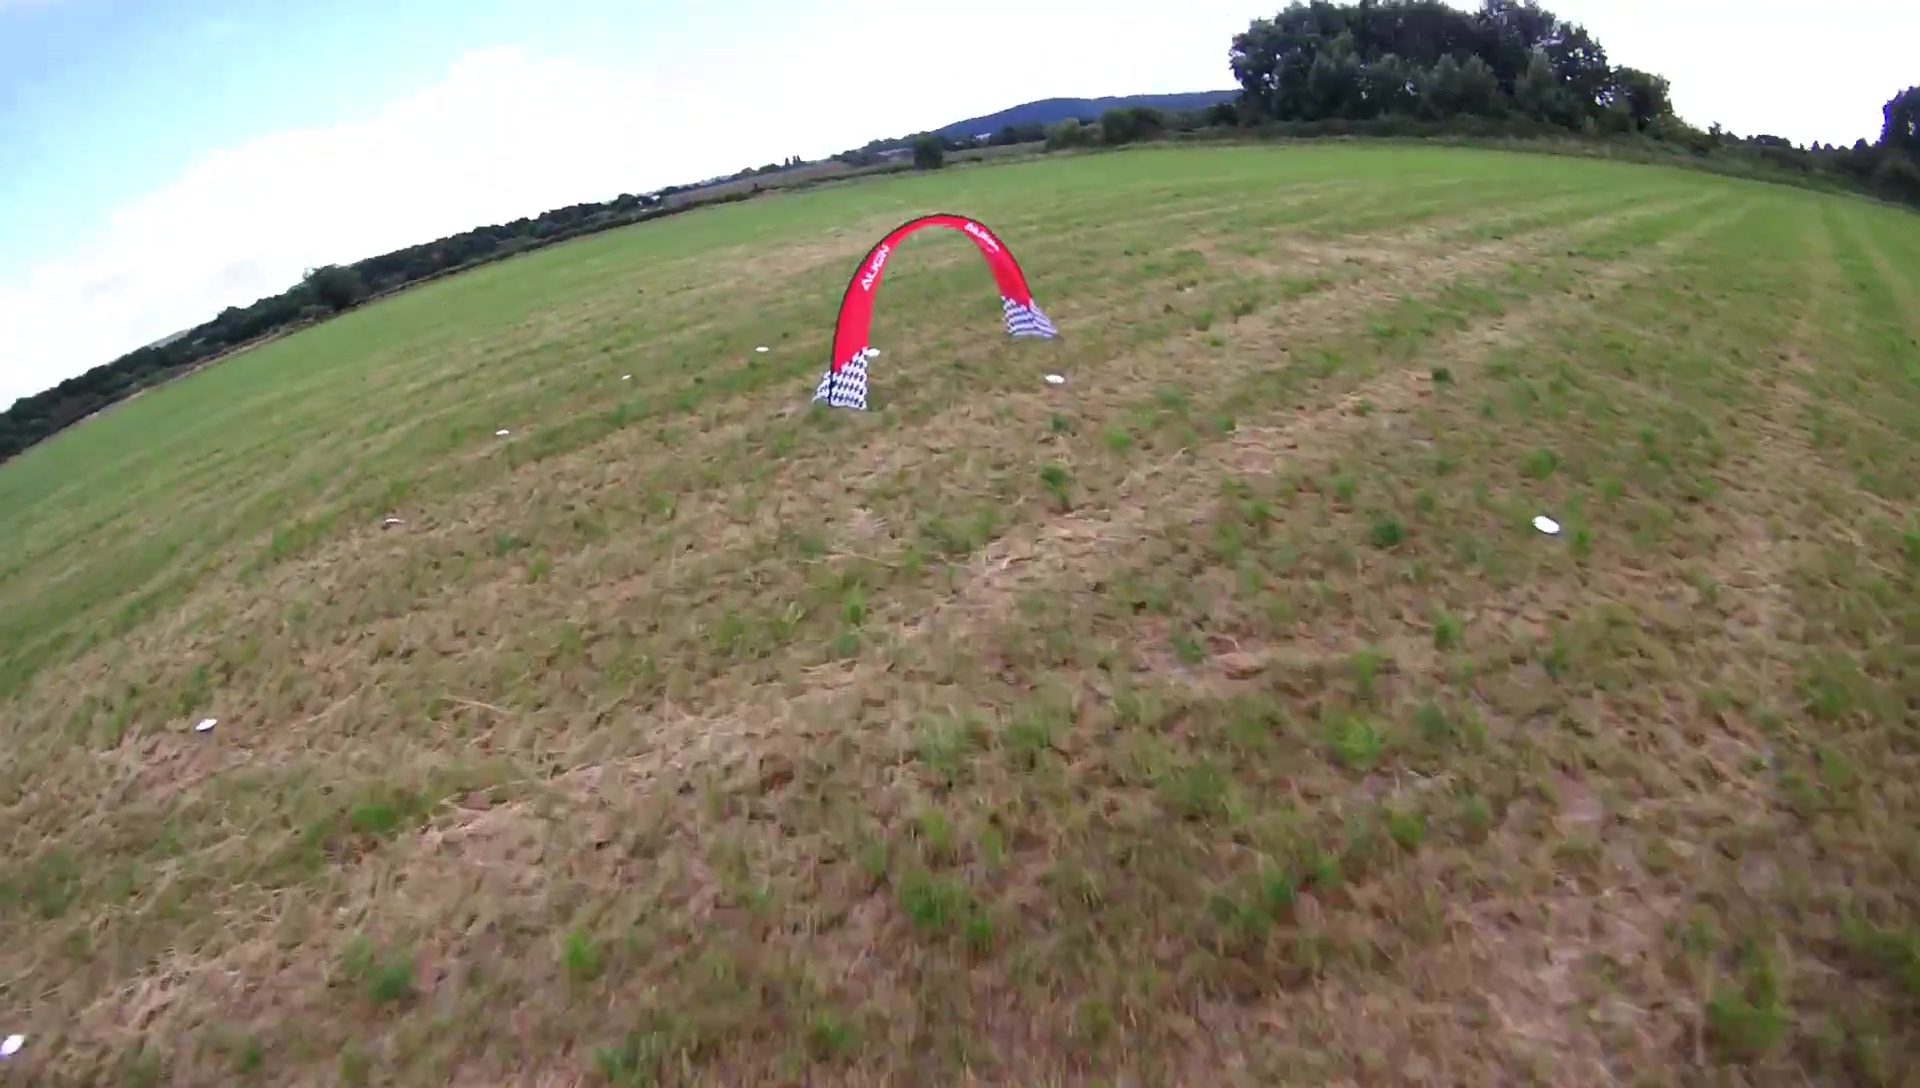gate: (816, 211, 1062, 414)
